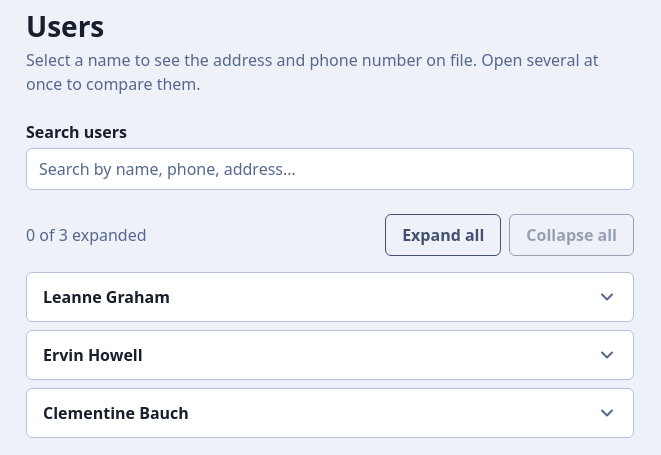
Test: UsersPage › searches the address and phone fields, not only the name
This screenshot has width=661, height=455.
Type "wisoky" into the dropdown labelled "Search users" at (330, 169), box [26,148,634,190]
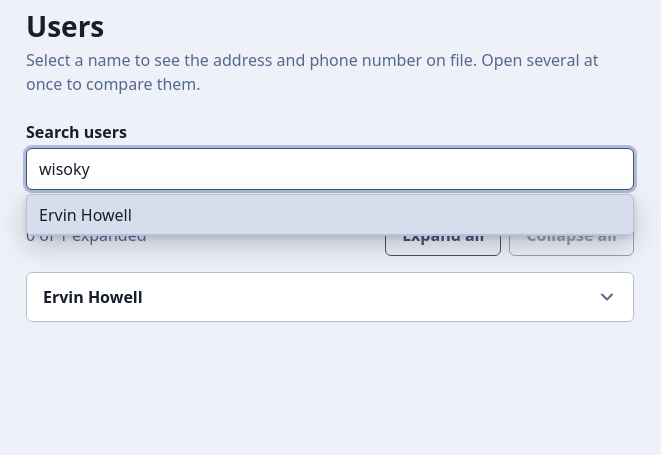
Check: the button "Ervin Howell" is shown, box [27,273,633,321]
Replace the text in the dropdown labelled "Search users" with "7707368031" at (330, 169), box [26,148,634,190]
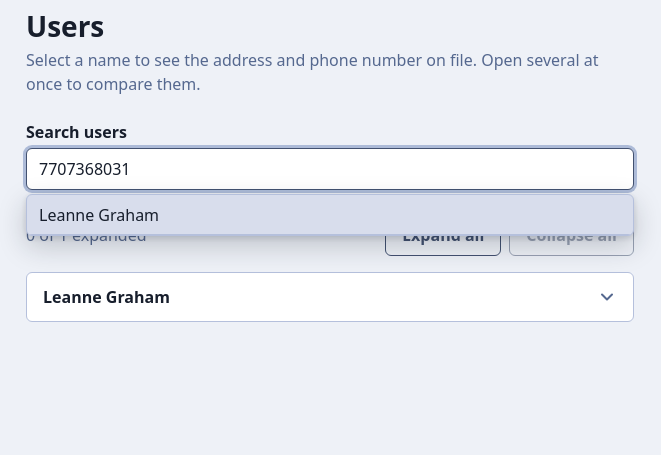
Check: the number of buttons "Leanne Graham" is 1, box [27,273,633,321]
